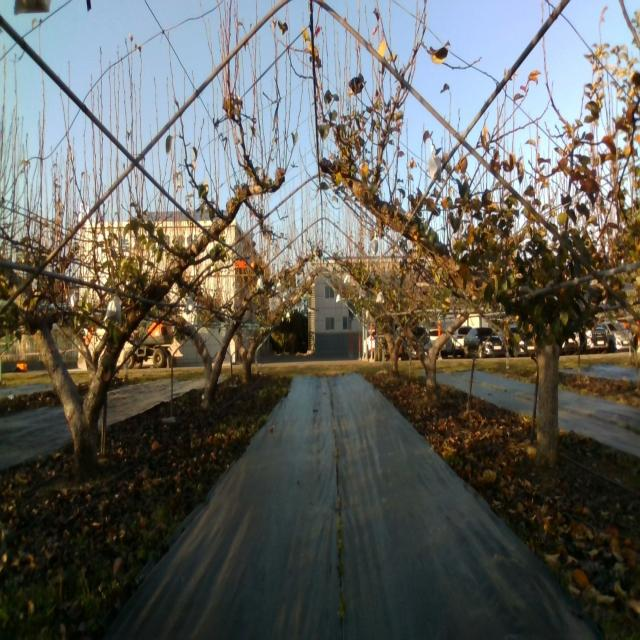pearbags: (105, 296, 122, 326), (428, 154, 442, 183)
